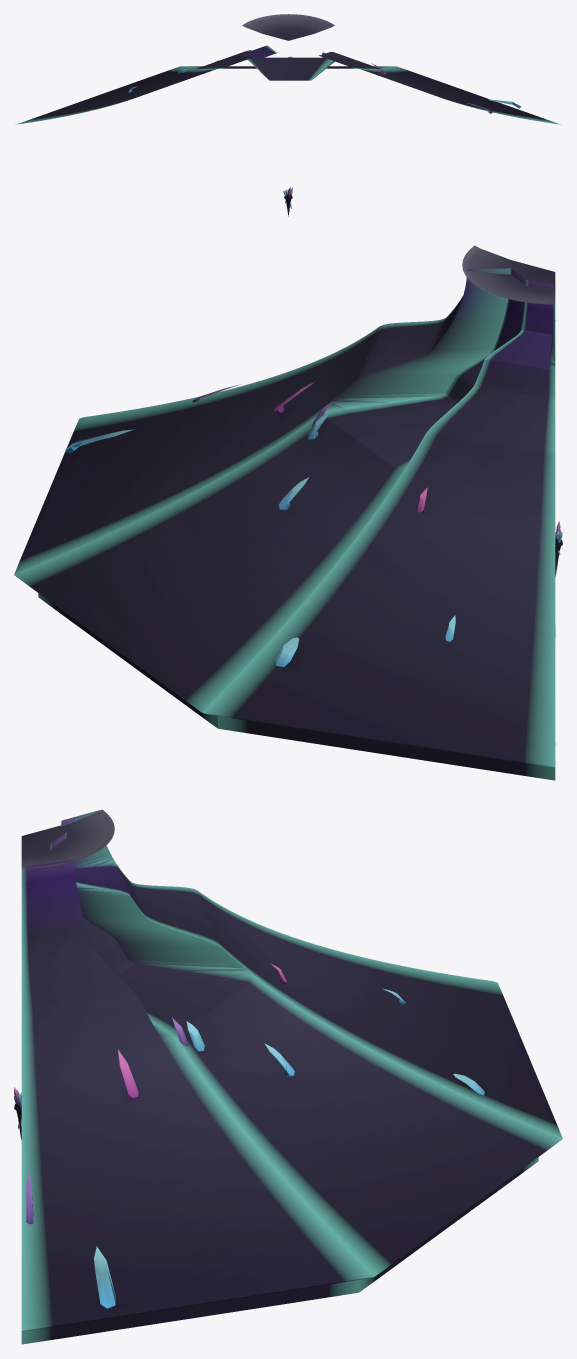
Rendered from caverns-s2-COs0WA_b.glb.
The picture shows the model from 3 angles, top to bottom: view 1: azimuth 30°, elevation 25°; view 2: azimuth 150°, elevation 25°; view 3: azimuth 270°, elevation 25°; orthographic projection. The views are drawn at different scales.
Visible parts, largest first — view 1: sc_landmark_0; view 2: sc_landmark_0; view 3: sc_landmark_0.
Boxes of the visible parts, x1,y1,x2,y2 form: sc_landmark_0: (16, 14, 560, 124); sc_landmark_0: (14, 245, 555, 780); sc_landmark_0: (21, 809, 562, 1344).
Size of the model in its own units: 646 by 270 by 430.
